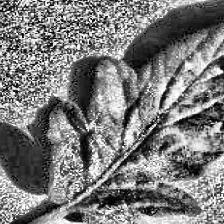leaf mold: (43, 0, 224, 224)
